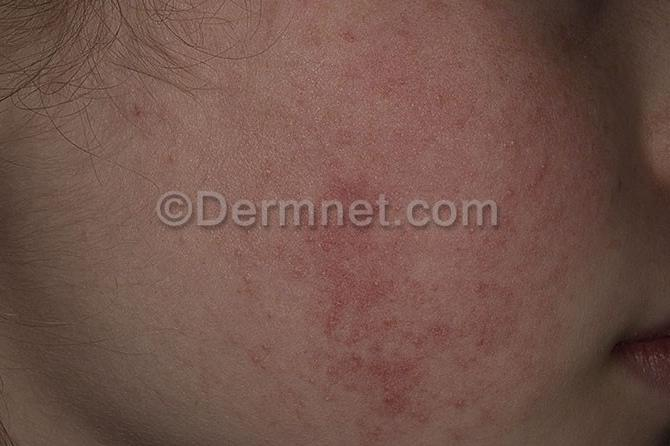Eritema 2: (298, 174, 443, 427)
edema 1: (251, 157, 548, 417)
eritema 1: (275, 20, 622, 424)
